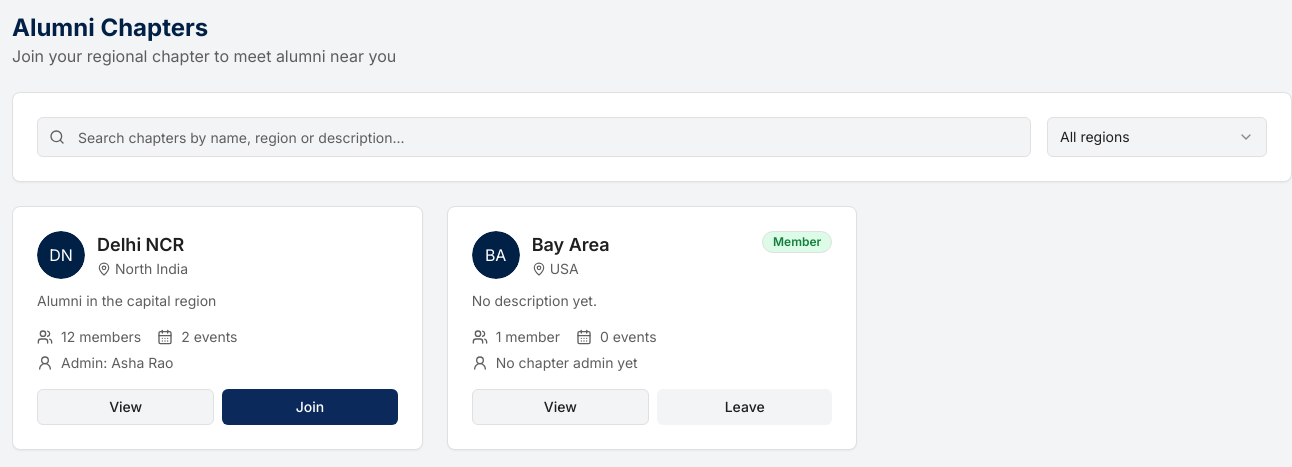
it: Chapters list page › offers the server-provided regions and filters by region on the server
Click the dropdown named "Filter by region".
click(1157, 137)  # box [1047,117,1267,157]
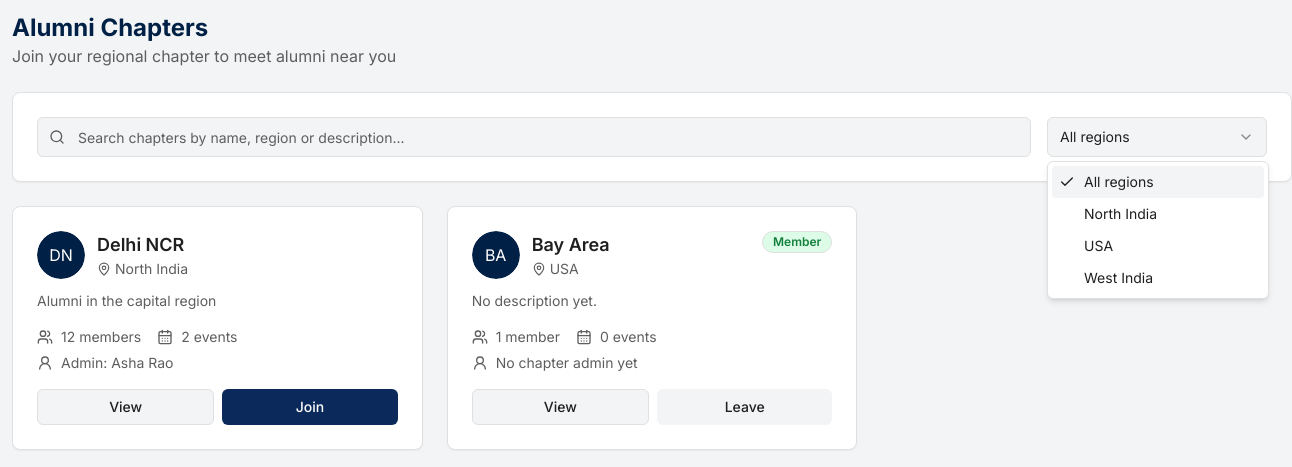
expect the options read "All regions", "North India", "USA", "West India", in this order: met
Click the option "USA".
click(1099, 246)  # box [1084,237,1113,254]
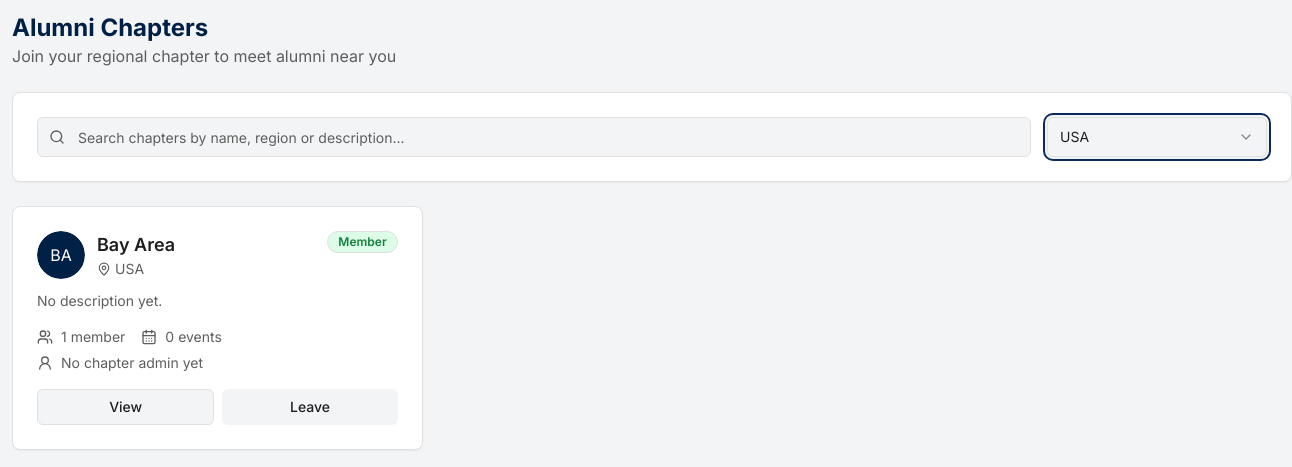
expect the link "Bay Area" is shown: met, box [97,234,175,255]
expect the link "Delhi NCR" is gone: met
